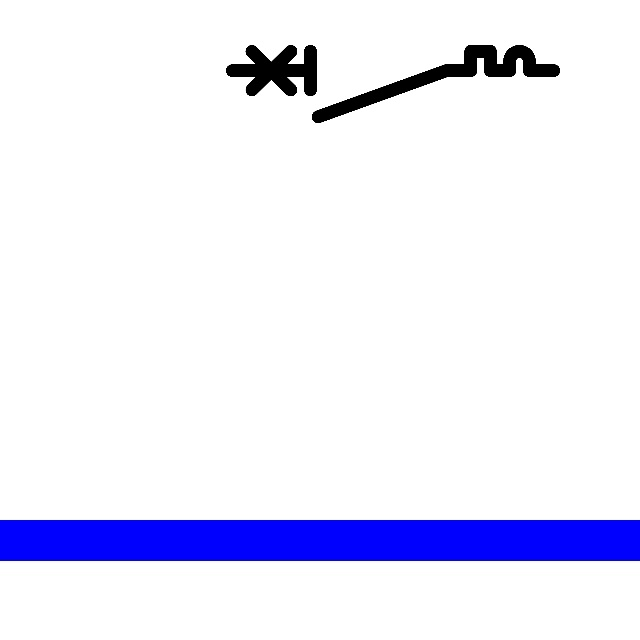interruptor_termomagnetico: (224, 43, 562, 125)
